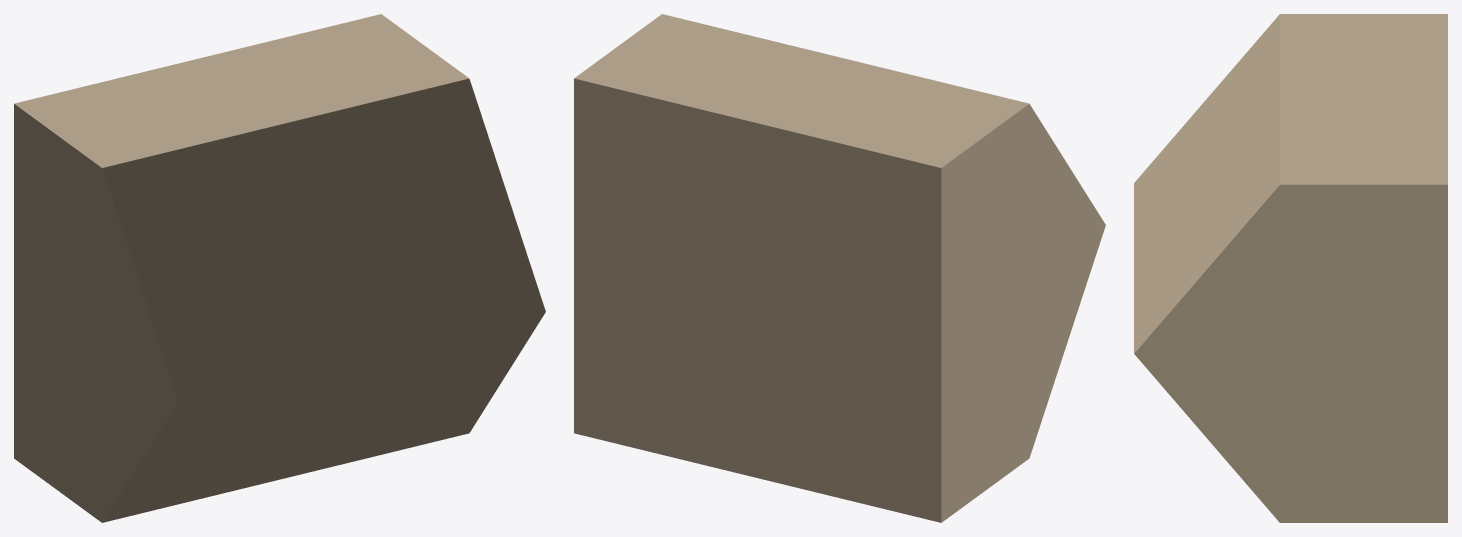
File: maison_yang.obj
The picture shows the model from 3 angles, left to right: view 1: azimuth 30°, elevation 25°; view 2: azimuth 150°, elevation 25°; view 3: azimuth 270°, elevation 25°; orthographic projection. The views are drawn at different scales.
Bounding box in the file's own units: 13 × 12 × 10.09.
